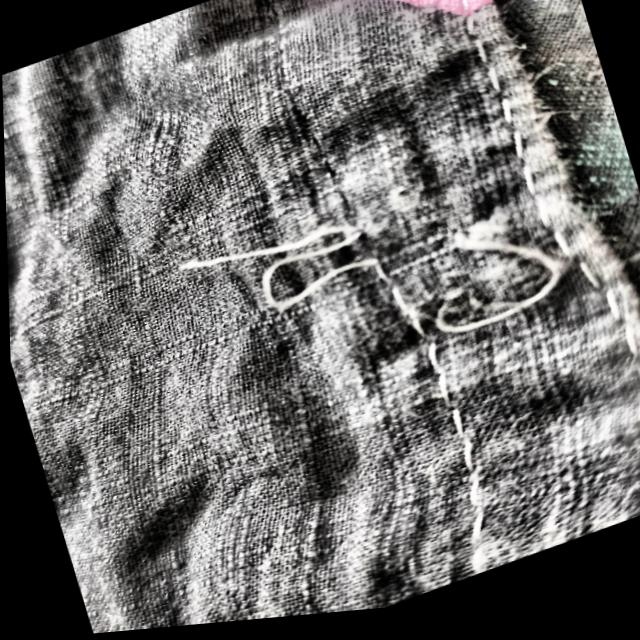Stitch: (131, 121, 602, 519)
